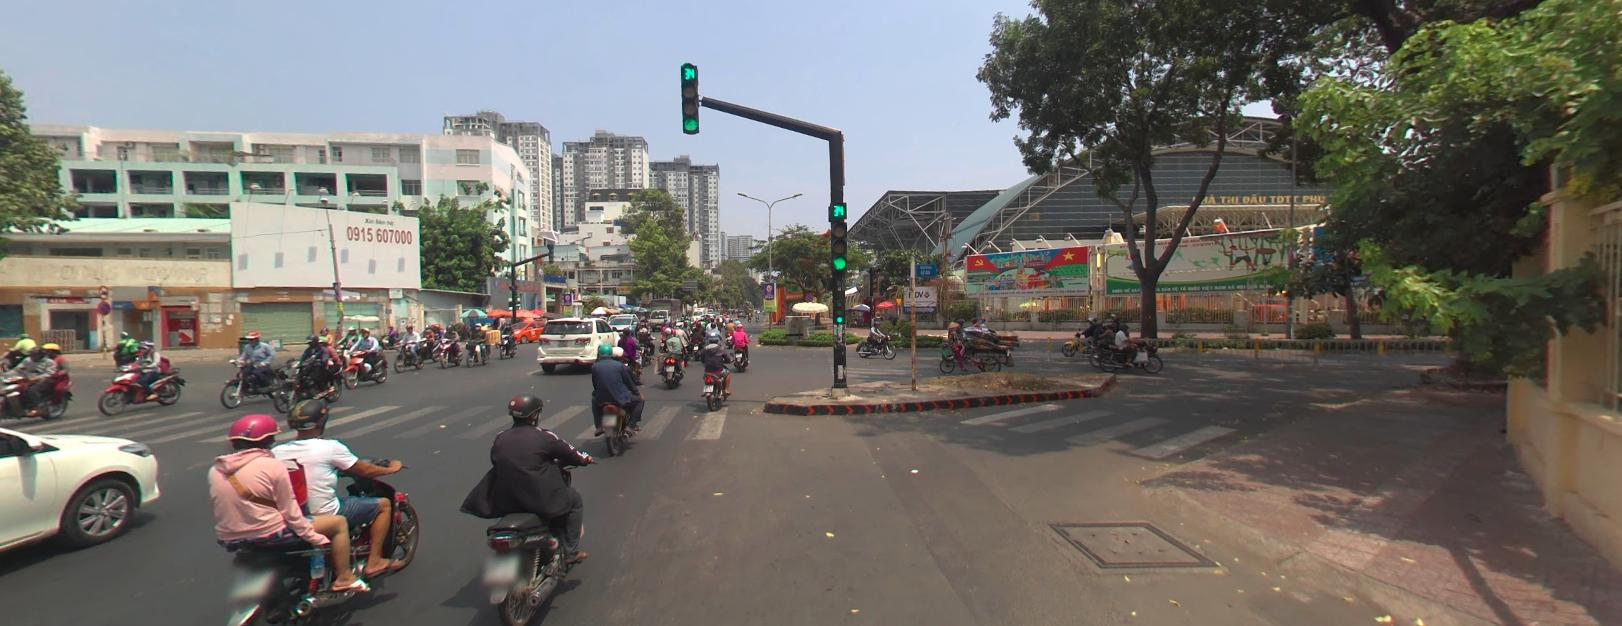Cam con lai: (98, 285, 107, 297), (99, 284, 107, 297)
Cam dung va do: (98, 300, 110, 312), (97, 300, 109, 312), (805, 292, 812, 300), (805, 292, 812, 299)
Nguy hiem: (895, 296, 902, 304)
